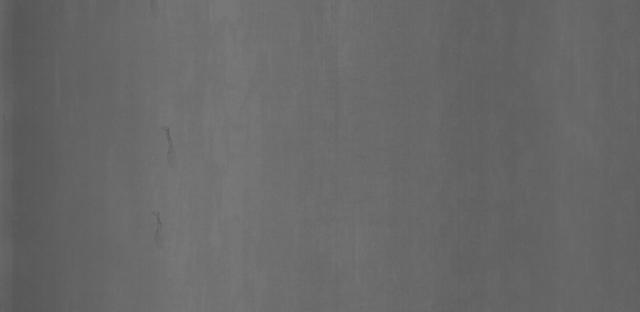water_spot: (144, 113, 197, 241)
